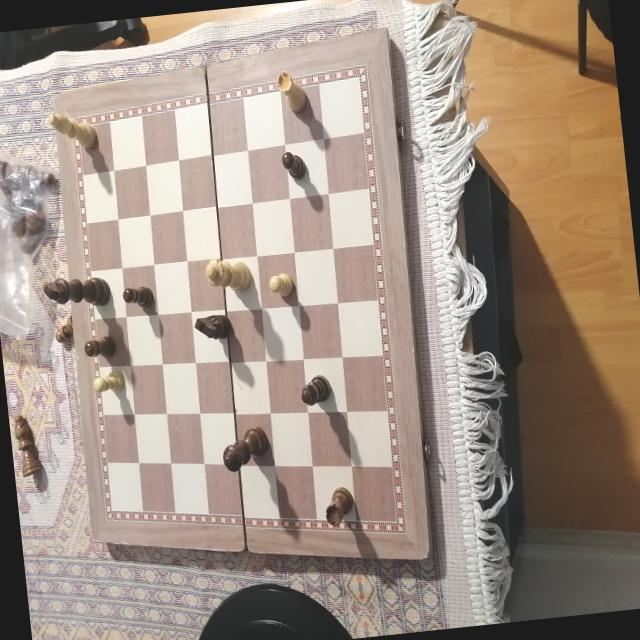corners: (418, 546, 438, 564), (378, 23, 397, 41), (82, 532, 100, 548), (46, 93, 66, 105)
